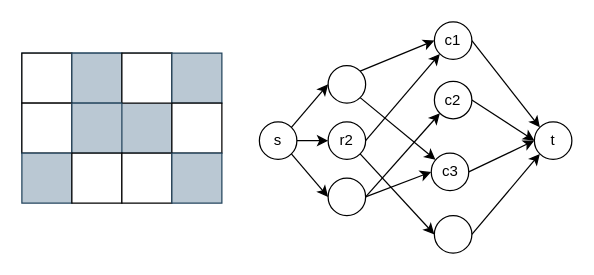
Image size: 594x275. Some labels were removed from this diagram. The centre of each missing label's shape, as x and y in pixels:
"c4" goes at point 452,233.
"r1" goes at point 346,83.
"r3" goes at point 346,196.
